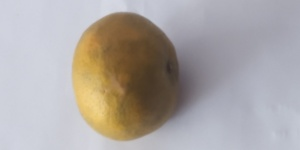BAD: (71, 10, 181, 142)
